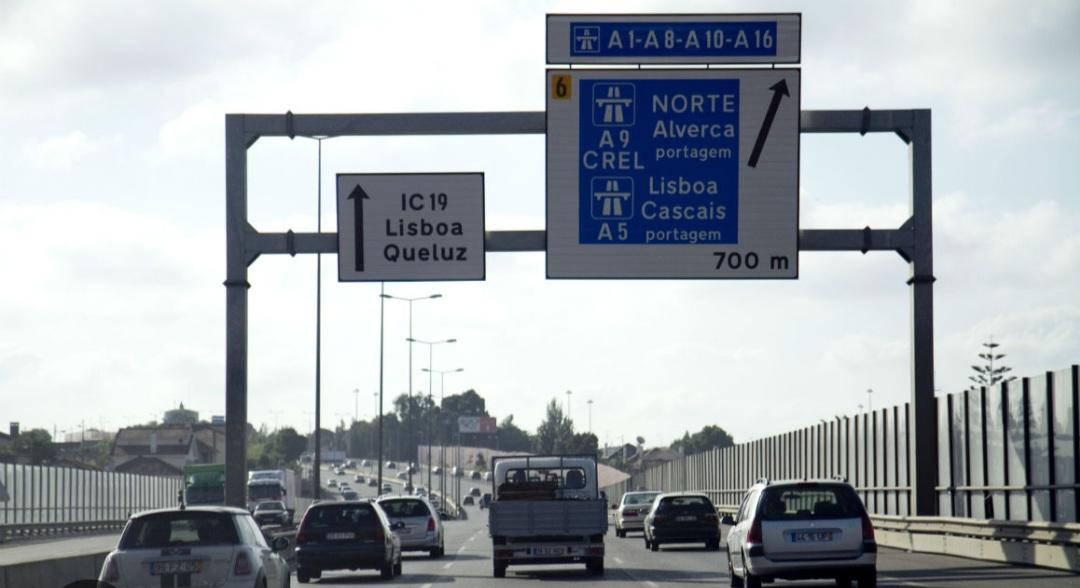Destinos de saida: (542, 13, 803, 277), (332, 174, 488, 282)
